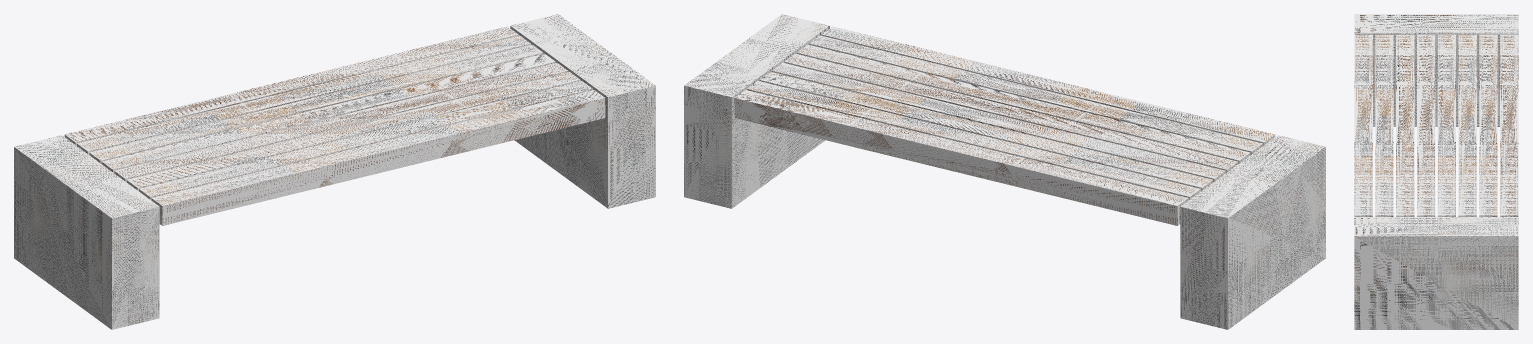
3 views of the same model, side by side, from view 1: azimuth 30°, elevation 25°; view 2: azimuth 150°, elevation 25°; view 3: azimuth 270°, elevation 25° (orthographic). The views are drawn at different scales.
Parts seen in each view (by area): view 1: mesh5_mesh5-geometry, mesh6_mesh6-geometry, mesh4_mesh4-geometry, mesh9_mesh9-geometry, mesh3_mesh3-geometry, mesh10_mesh10-geometry, mesh1_mesh1-geometry, mesh7_mesh7-geometry, mesh8_mesh8-geometry, mesh2_mesh2-geometry; view 2: mesh5_mesh5-geometry, mesh6_mesh6-geometry, mesh3_mesh3-geometry, mesh10_mesh10-geometry, mesh4_mesh4-geometry, mesh9_mesh9-geometry, mesh2_mesh2-geometry, mesh8_mesh8-geometry, mesh7_mesh7-geometry, mesh1_mesh1-geometry; view 3: mesh6_mesh6-geometry, mesh5_mesh5-geometry, mesh1_mesh1-geometry, mesh2_mesh2-geometry, mesh3_mesh3-geometry, mesh4_mesh4-geometry, mesh7_mesh7-geometry, mesh8_mesh8-geometry, mesh9_mesh9-geometry, mesh10_mesh10-geometry.
Part boxes in pixels (x1,y1,x2,y2): mesh5_mesh5-geometry: (14, 135, 159, 329); mesh6_mesh6-geometry: (510, 14, 655, 208); mesh4_mesh4-geometry: (151, 90, 605, 225); mesh9_mesh9-geometry: (114, 62, 568, 181); mesh3_mesh3-geometry: (64, 26, 518, 145); mesh10_mesh10-geometry: (101, 53, 555, 172); mesh1_mesh1-geometry: (77, 35, 530, 154); mesh7_mesh7-geometry: (89, 44, 543, 163); mesh8_mesh8-geometry: (126, 71, 580, 191); mesh2_mesh2-geometry: (139, 81, 592, 199); mesh5_mesh5-geometry: (1180, 135, 1325, 329); mesh6_mesh6-geometry: (684, 14, 829, 208); mesh3_mesh3-geometry: (734, 90, 1188, 225); mesh10_mesh10-geometry: (771, 62, 1225, 181); mesh4_mesh4-geometry: (821, 26, 1275, 145); mesh9_mesh9-geometry: (784, 53, 1238, 172); mesh2_mesh2-geometry: (809, 35, 1262, 154); mesh8_mesh8-geometry: (796, 44, 1250, 163); mesh7_mesh7-geometry: (759, 71, 1213, 191); mesh1_mesh1-geometry: (747, 81, 1200, 199); mesh6_mesh6-geometry: (1354, 217, 1518, 329); mesh5_mesh5-geometry: (1354, 14, 1518, 126); mesh1_mesh1-geometry: (1479, 34, 1497, 216); mesh2_mesh2-geometry: (1375, 34, 1393, 216); mesh3_mesh3-geometry: (1500, 34, 1518, 216); mesh4_mesh4-geometry: (1354, 34, 1372, 216); mesh7_mesh7-geometry: (1458, 34, 1476, 216); mesh8_mesh8-geometry: (1396, 34, 1414, 216); mesh9_mesh9-geometry: (1417, 34, 1435, 216); mesh10_mesh10-geometry: (1437, 34, 1455, 216).
Bounding box in the file's own units: 0.9384 × 0.1839 × 0.2924.
